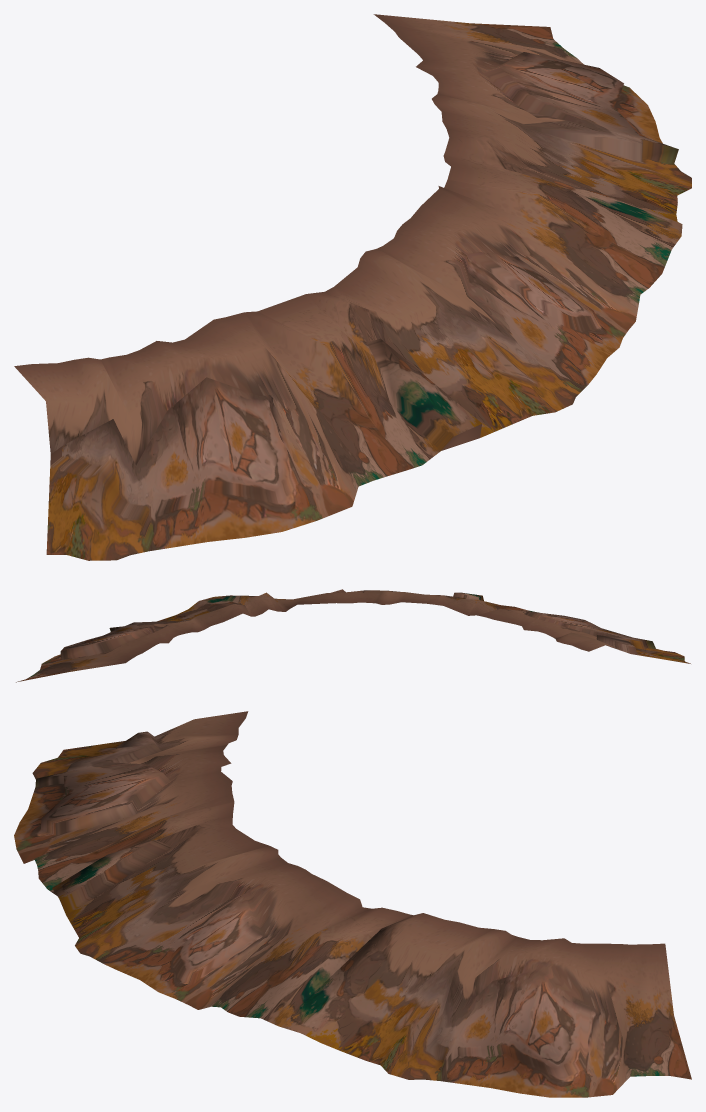
Rendered from level1Skybox.fbx.
3 views of the same model, one above another, from view 1: azimuth 30°, elevation 25°; view 2: azimuth 150°, elevation 25°; view 3: azimuth 270°, elevation 25° (orthographic). The views are drawn at different scales.
Visible parts, largest first — view 1: Cliffs.001; view 2: Cliffs.001; view 3: Cliffs.001.
Part boxes in pixels (bbox=[...]): Cliffs.001: bbox=[14, 14, 691, 560]; Cliffs.001: bbox=[16, 589, 690, 682]; Cliffs.001: bbox=[14, 711, 691, 1097].
Size of the model in its own units: 39660 by 4700 by 31601.
